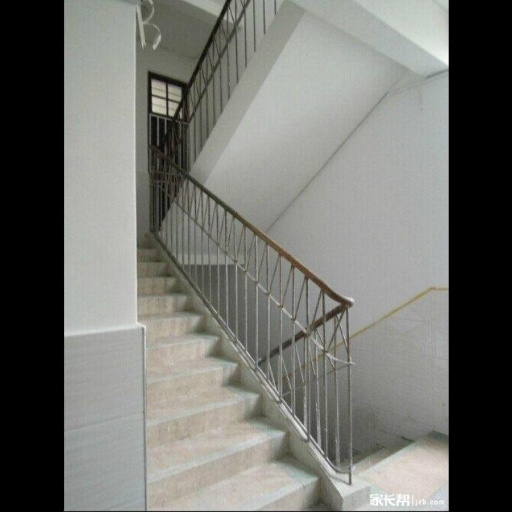Stairs: (139, 248, 320, 508)
